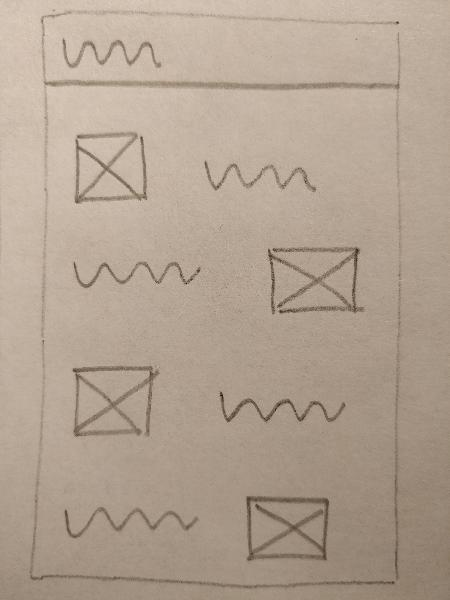image: (261, 240, 366, 317), (62, 362, 167, 439), (234, 490, 339, 567), (67, 128, 152, 208)
text: (64, 248, 205, 290), (58, 502, 201, 542), (207, 389, 350, 429), (198, 153, 321, 198), (56, 33, 164, 73)
